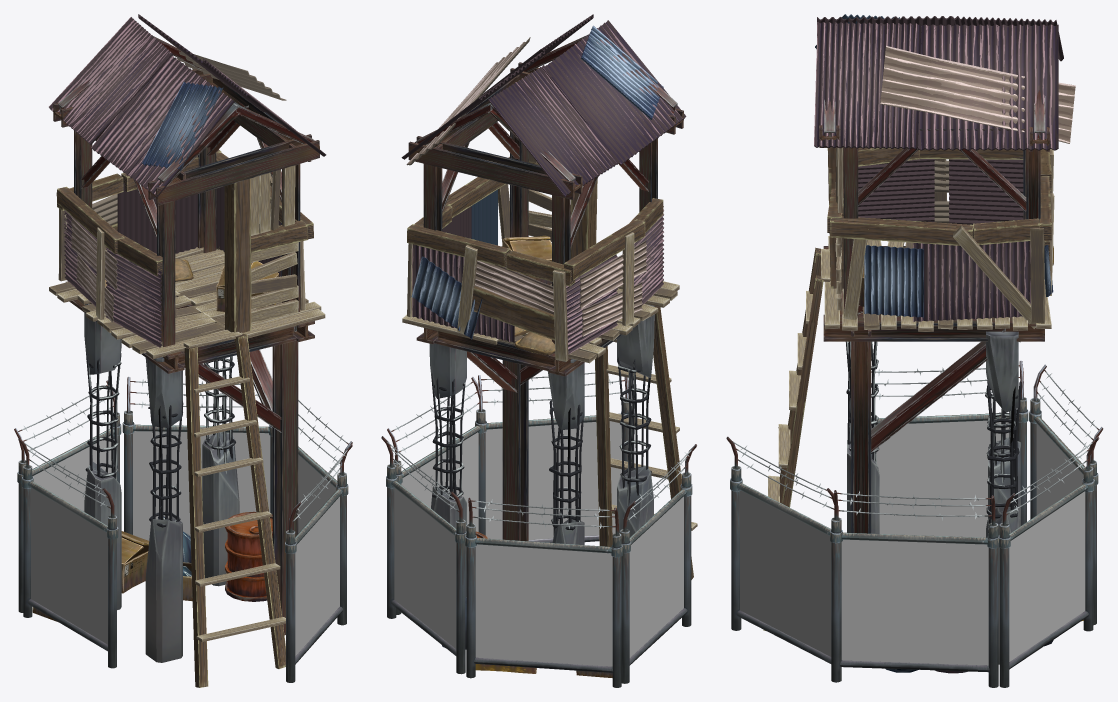
Rendered from tower1.fbx.
3 views of the same model, side by side, from view 1: azimuth 30°, elevation 25°; view 2: azimuth 150°, elevation 25°; view 3: azimuth 270°, elevation 25° (orthographic). The views are drawn at different scales.
Parts seen in each view (by area): view 1: Plane.007, Cube.109, Plane.003, Plane.005, Cube.164, Cube.165, Cube.110, Cube.108, Cube.107, Plane.006, Cube.191, Cube.152 (+49 smaller); view 2: Plane.006, Plane.005, Plane.003, Plane.007, Cube.165, Cube.164, Cube.109, Cube.107, Cube.108, Cube.110, Plane.004, Cube.151 (+39 smaller); view 3: Plane.004, Plane.003, Plane.005, Plane.007, Cube.162, Cube.163, Cube.172, Cube.154, Plane.006, Cube.107, Cube.158, Cube.156 (+24 smaller).
Part boxes in pixels (bbox=[...]): Plane.007: bbox=[18, 437, 118, 668]; Cube.109: bbox=[145, 353, 183, 662]; Plane.003: bbox=[285, 444, 352, 682]; Plane.005: bbox=[122, 376, 272, 540]; Cube.164: bbox=[91, 52, 234, 197]; Cube.165: bbox=[49, 17, 173, 145]; Cube.110: bbox=[272, 340, 298, 635]; Cube.108: bbox=[84, 303, 121, 609]; Cube.107: bbox=[202, 356, 239, 586]; Plane.006: bbox=[14, 380, 121, 612]; Cube.191: bbox=[184, 347, 208, 687]; Cube.152: bbox=[148, 134, 319, 205]; Plane.006: bbox=[465, 497, 622, 687]; Plane.005: bbox=[381, 436, 466, 674]; Plane.003: bbox=[475, 372, 628, 542]; Plane.007: bbox=[620, 444, 696, 683]; Cube.165: bbox=[488, 65, 619, 197]; Cube.164: bbox=[542, 20, 686, 165]; Cube.109: bbox=[617, 304, 654, 536]; Cube.107: bbox=[429, 343, 466, 596]; Cube.108: bbox=[547, 359, 584, 544]; Cube.110: bbox=[502, 360, 528, 541]; Plane.004: bbox=[387, 377, 486, 614]; Cube.151: bbox=[408, 136, 582, 199]; Plane.004: bbox=[830, 490, 999, 687]; Plane.003: bbox=[726, 436, 842, 681]; Plane.005: bbox=[999, 436, 1099, 687]; Plane.007: bbox=[871, 360, 1028, 537]; Cube.162: bbox=[917, 24, 1058, 150]; Cube.163: bbox=[814, 22, 921, 149]; Cube.172: bbox=[880, 45, 1075, 143]; Cube.154: bbox=[913, 241, 1030, 321]; Plane.006: bbox=[1029, 364, 1103, 625]; Cube.107: bbox=[985, 331, 1021, 664]; Cube.158: bbox=[949, 157, 1023, 224]; Cube.156: bbox=[864, 245, 923, 317].
Bounding box in the file's own units: 8.68 × 18.16 × 10.16.
